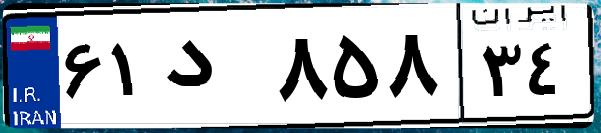1: (110, 28, 158, 98)
3: (475, 38, 525, 113)
4: (525, 38, 570, 115)
5: (330, 28, 385, 110)
6: (57, 26, 110, 100)
8: (270, 28, 330, 110), (385, 28, 445, 110)
د: (158, 20, 270, 120)
